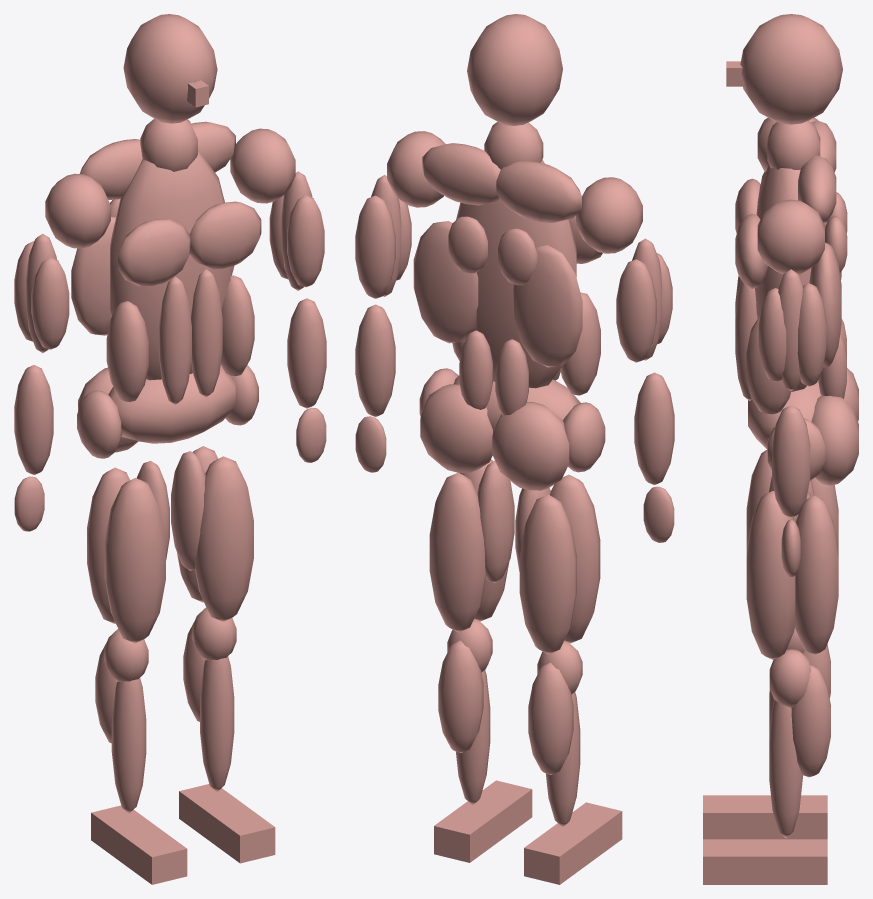
Rendered from muscles.placeholder.glb.
3 renders of one model, left to right at view 1: azimuth 30°, elevation 25°; view 2: azimuth 150°, elevation 25°; view 3: azimuth 270°, elevation 25°, orthographic. The views are drawn at different scales.
Visible parts, largest first — view 1: body_base, quads, shoulders, chest, forearms, abs, obliques, biceps, adductors, traps, hamstrings, abductors (+5 smaller); view 2: body_base, hamstrings, lats, glutes, calves, traps, forearms, shoulders, triceps, quads, lower_back, adductors (+5 smaller); view 3: body_base, quads, hamstrings, shoulders, calves, forearms, glutes, traps, chest, triceps, lats, neck (+6 smaller).
Part boxes in pixels (x1,y1,x2,y2): body_base: [14, 14, 326, 884]; quads: [104, 456, 253, 643]; shoulders: [45, 128, 295, 248]; chest: [118, 201, 261, 286]; forearms: [14, 298, 326, 474]; abs: [159, 269, 222, 405]; obliques: [106, 275, 254, 402]; biceps: [31, 195, 324, 349]; adductors: [137, 451, 205, 570]; traps: [79, 121, 235, 199]; hamstrings: [87, 446, 217, 623]; abductors: [77, 365, 258, 458]; body_base: [355, 14, 674, 884]; hamstrings: [429, 472, 576, 654]; lats: [413, 221, 582, 367]; glutes: [420, 384, 569, 490]; calves: [438, 640, 573, 774]; traps: [422, 143, 581, 222]; forearms: [355, 304, 674, 485]; shoulders: [387, 131, 642, 253]; triceps: [355, 195, 656, 362]; quads: [459, 459, 600, 643]; lower_back: [459, 330, 528, 415]; adductors: [477, 460, 550, 582]; body_base: [703, 14, 842, 884]; quads: [746, 449, 795, 659]; hamstrings: [795, 477, 838, 654]; shoulders: [757, 117, 824, 274]; calves: [791, 644, 830, 777]; forearms: [772, 405, 810, 517]; glutes: [811, 368, 858, 485]; traps: [798, 120, 836, 222]; chest: [735, 178, 767, 288]; triceps: [797, 283, 826, 386]; lats: [809, 242, 841, 367]; neck: [767, 120, 820, 169].
Bounding box in the file's own units: 0.7082 × 1.78 × 0.3006.
